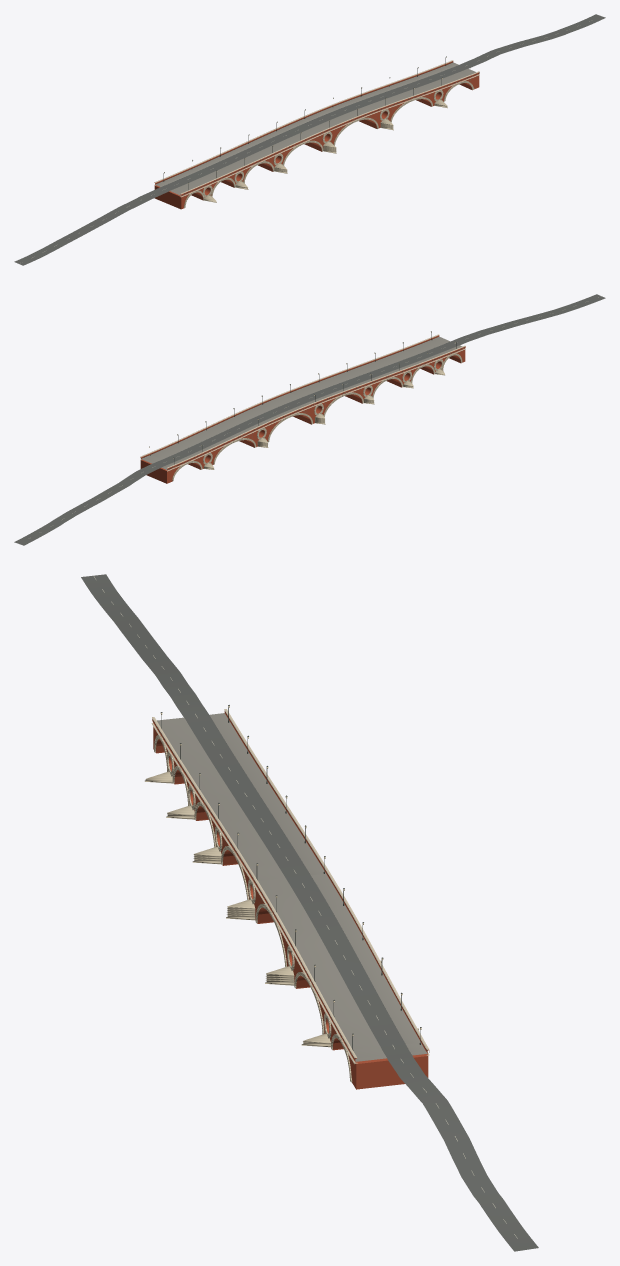
Rendered from pont-neuf-toulouse-near.glb.
3 renders of one model, top to bottom at view 1: azimuth 30°, elevation 25°; view 2: azimuth 210°, elevation 25°; view 3: azimuth 270°, elevation 25°, orthographic. The views are drawn at different scales.
Visible parts, largest first — view 1: pont-neuf-toulouse-0-asphalt, pont-neuf-toulouse-0-walk, pont-neuf-toulouse-1-walk, pont-neuf-toulouse-0-brick, pont-neuf-toulouse-1-brick, pont-neuf-toulouse-0-stone, pont-neuf-toulouse-0-trim, pont-neuf-toulouse-1-trim, pont-neuf-toulouse-1-stone; view 2: pont-neuf-toulouse-0-asphalt, pont-neuf-toulouse-1-walk, pont-neuf-toulouse-0-walk, pont-neuf-toulouse-1-brick, pont-neuf-toulouse-0-brick, pont-neuf-toulouse-0-trim, pont-neuf-toulouse-0-stone, pont-neuf-toulouse-1-trim, pont-neuf-toulouse-1-stone; view 3: pont-neuf-toulouse-0-asphalt, pont-neuf-toulouse-1-walk, pont-neuf-toulouse-0-walk, pont-neuf-toulouse-1-brick, pont-neuf-toulouse-0-stone, pont-neuf-toulouse-1-trim, pont-neuf-toulouse-0-trim, pont-neuf-toulouse-0-brick, pont-neuf-toulouse-1-stone.
Boxes of the visible parts, x1=… form: pont-neuf-toulouse-0-asphalt: x1=14, y1=14, x2=605, y2=265; pont-neuf-toulouse-0-walk: x1=155, y1=119, x2=329, y2=195; pont-neuf-toulouse-1-walk: x1=305, y1=62, x2=478, y2=129; pont-neuf-toulouse-0-brick: x1=154, y1=117, x2=334, y2=209; pont-neuf-toulouse-1-brick: x1=304, y1=61, x2=479, y2=139; pont-neuf-toulouse-0-stone: x1=184, y1=131, x2=336, y2=206; pont-neuf-toulouse-0-trim: x1=154, y1=116, x2=332, y2=207; pont-neuf-toulouse-1-trim: x1=304, y1=60, x2=479, y2=145; pont-neuf-toulouse-1-stone: x1=333, y1=81, x2=474, y2=145; pont-neuf-toulouse-0-asphalt: x1=14, y1=294, x2=605, y2=545; pont-neuf-toulouse-1-walk: x1=141, y1=393, x2=315, y2=470; pont-neuf-toulouse-0-walk: x1=291, y1=336, x2=464, y2=404; pont-neuf-toulouse-1-brick: x1=140, y1=391, x2=316, y2=483; pont-neuf-toulouse-0-brick: x1=290, y1=335, x2=465, y2=424; pont-neuf-toulouse-0-trim: x1=290, y1=334, x2=465, y2=414; pont-neuf-toulouse-0-stone: x1=314, y1=353, x2=462, y2=424; pont-neuf-toulouse-1-trim: x1=140, y1=390, x2=316, y2=477; pont-neuf-toulouse-1-stone: x1=172, y1=413, x2=312, y2=481; pont-neuf-toulouse-0-asphalt: x1=81, y1=574, x2=538, y2=1251; pont-neuf-toulouse-1-walk: x1=258, y1=874, x2=427, y2=1062; pont-neuf-toulouse-0-walk: x1=157, y1=713, x2=325, y2=880; pont-neuf-toulouse-1-brick: x1=254, y1=872, x2=428, y2=1089; pont-neuf-toulouse-0-stone: x1=144, y1=735, x2=255, y2=920; pont-neuf-toulouse-1-trim: x1=253, y1=869, x2=429, y2=1072; pont-neuf-toulouse-0-trim: x1=151, y1=709, x2=327, y2=903; pont-neuf-toulouse-0-brick: x1=152, y1=711, x2=326, y2=923; pont-neuf-toulouse-1-stone: x1=255, y1=903, x2=418, y2=1082.
Size of the model in its own units: 428 by 16.62 by 123.
